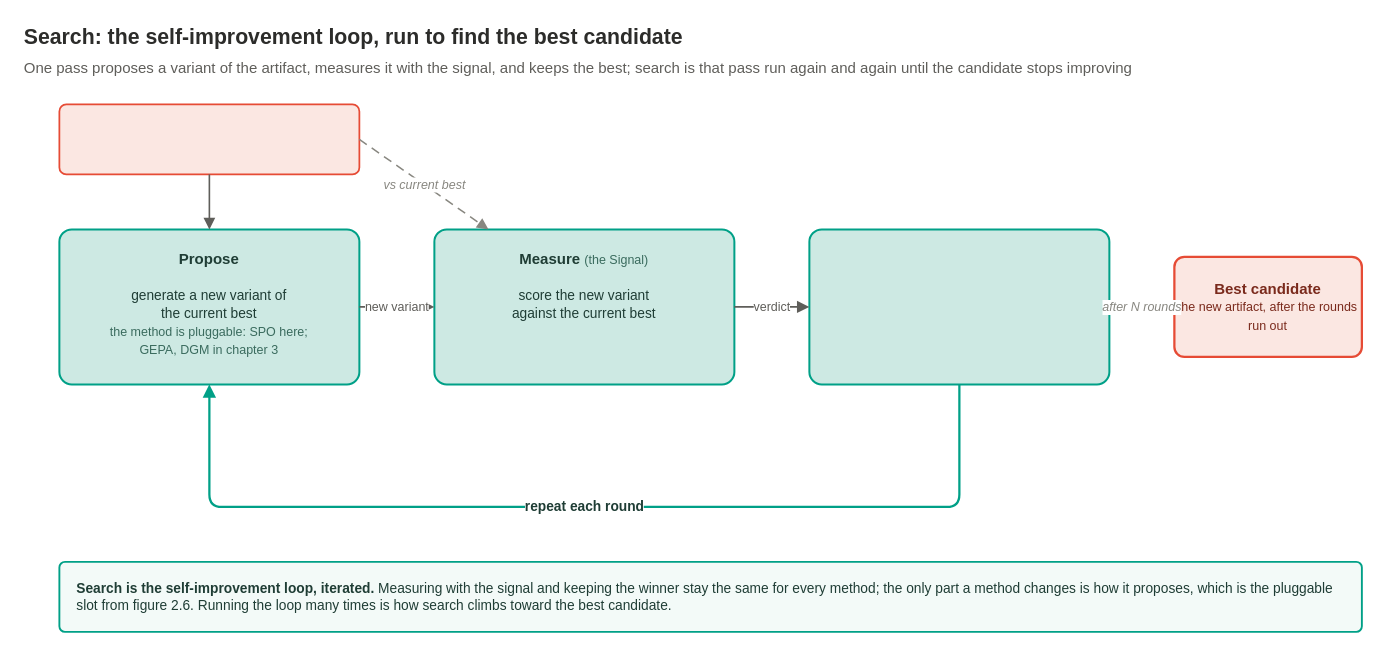
Some shapes in this 1384 by 654 pixel diagram are drawn without their labels. Each missing label, with the centre of its shape:
"Current best artifact carried across rounds (genesis on round 1)" belongs at [209,139].
"Select apply the verdict: keep the variant if the signal preferred it" belongs at [959,306].
